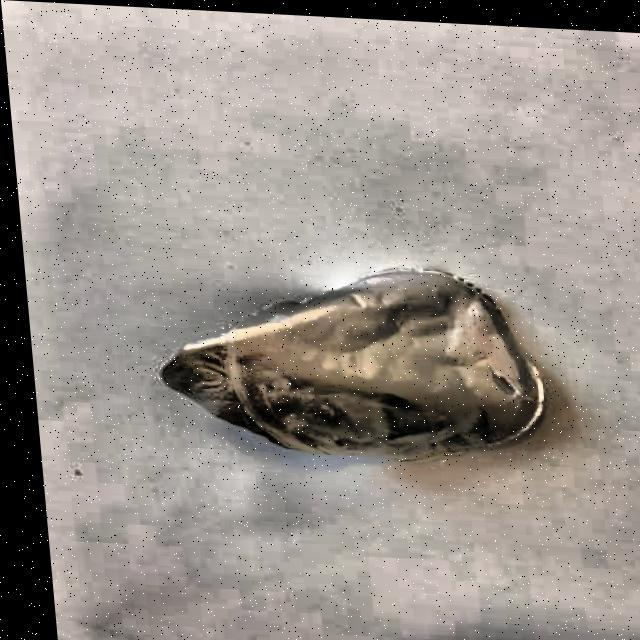trash: (106, 239, 595, 512)
